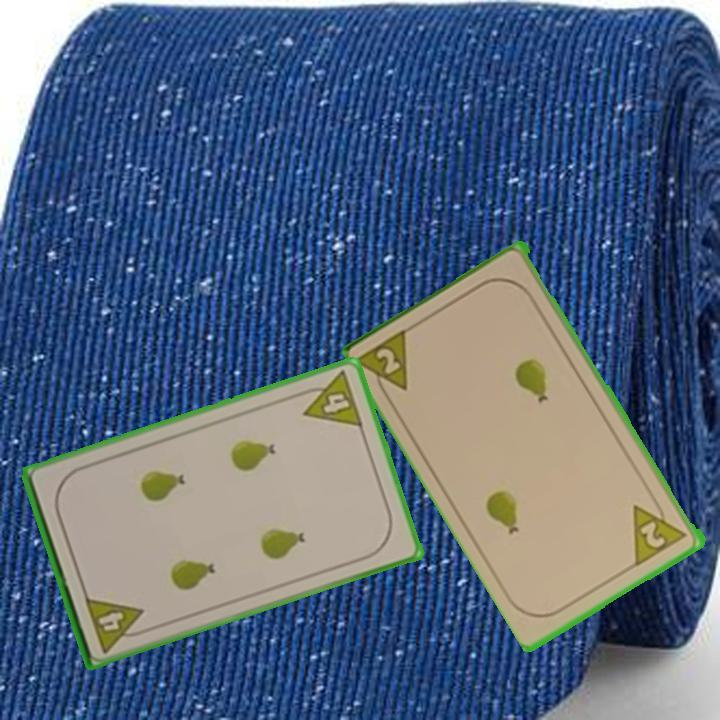2p: (355, 324, 414, 405), (629, 493, 692, 568)
4p: (294, 367, 366, 430), (81, 592, 151, 656)
